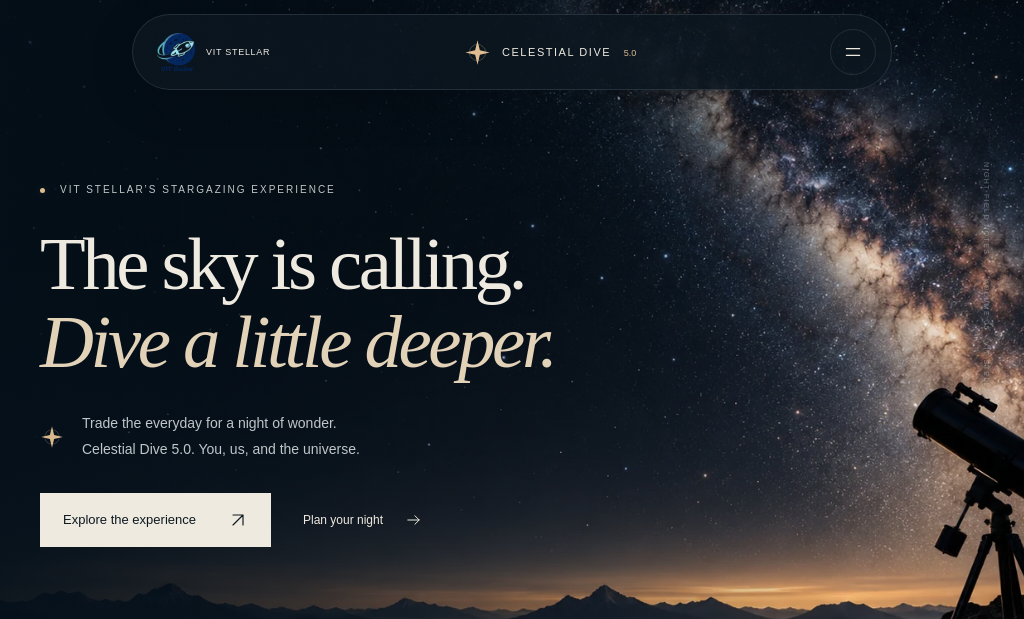
closes the menu when an in-page destination is selected
This screenshot has width=1024, height=619.
Step 1. Click the button named "Open menu" → (853, 52), box x1=830 y1=29 x2=876 y2=75
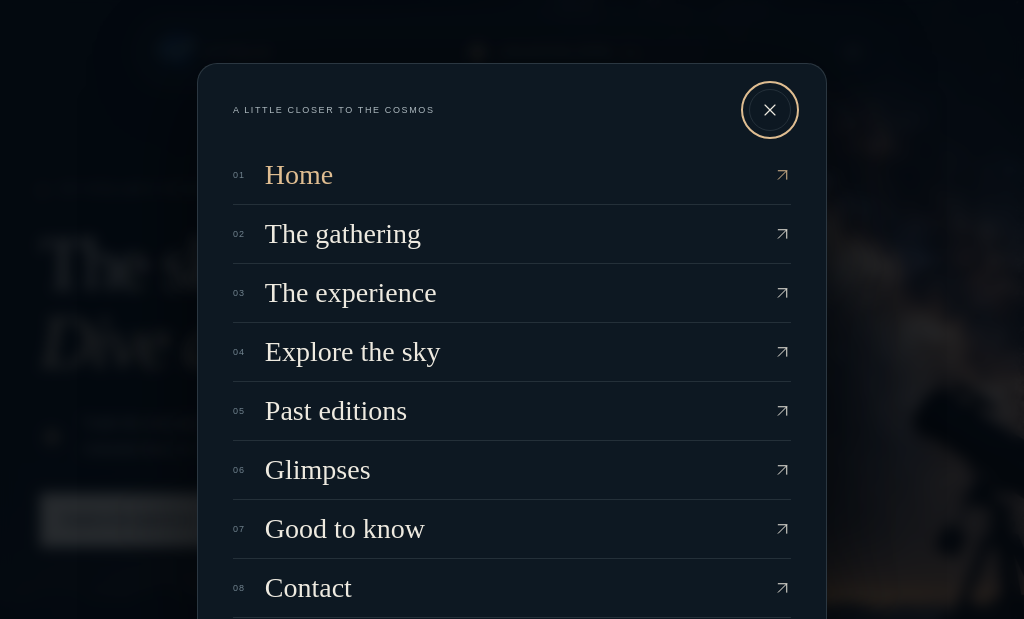
Step 2. Click the link "04 Explore the sky" → (353, 352), box x1=233 y1=323 x2=791 y2=382
(page scrolled)
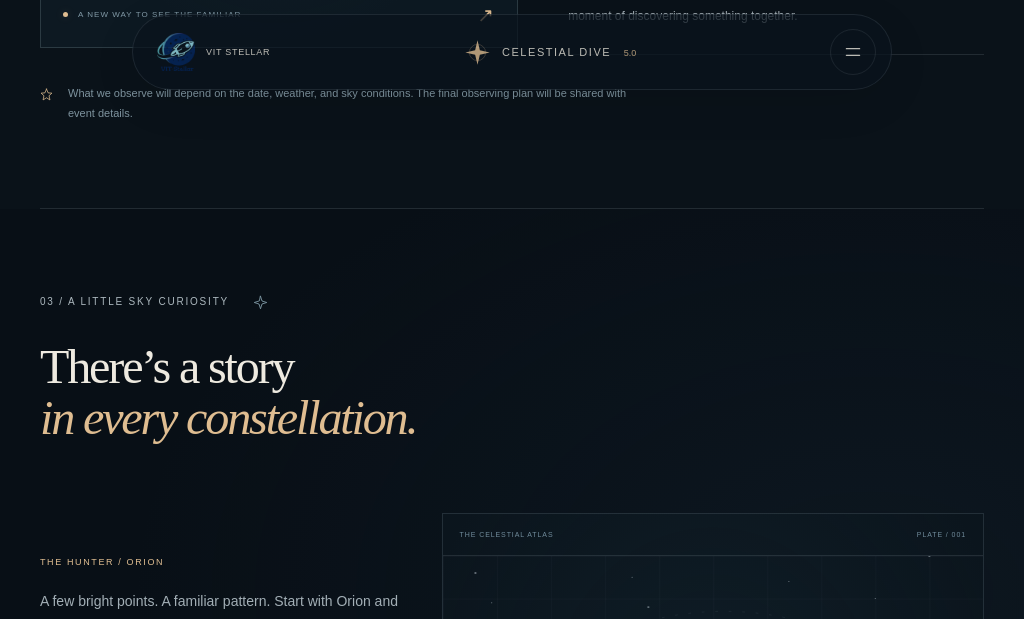
Now the button named "Open menu" is collapsed, box x1=830 y1=29 x2=876 y2=75
